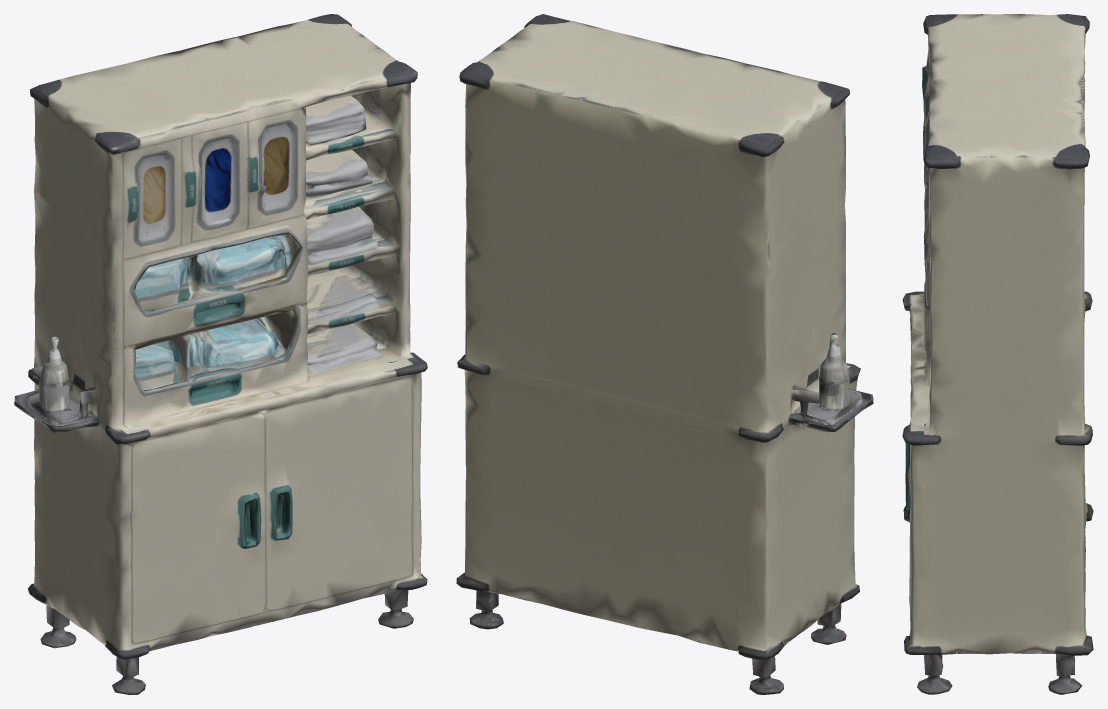
File: PPEStation.glb
The picture shows the model from 3 angles, left to right: view 1: azimuth 30°, elevation 25°; view 2: azimuth 150°, elevation 25°; view 3: azimuth 270°, elevation 25°; orthographic projection. The views are drawn at different scales.
Parts seen in each view (by area): view 1: texture_mapping; view 2: texture_mapping; view 3: texture_mapping.
Boxes of the visible parts, x1=… form: texture_mapping: x1=14, y1=14, x2=427, y2=694; texture_mapping: x1=456, y1=14, x2=873, y2=694; texture_mapping: x1=902, y1=14, x2=1093, y2=694.
Size of the model in its own units: 0.6683 by 1 by 0.3224.
1 material, 1 textured.
